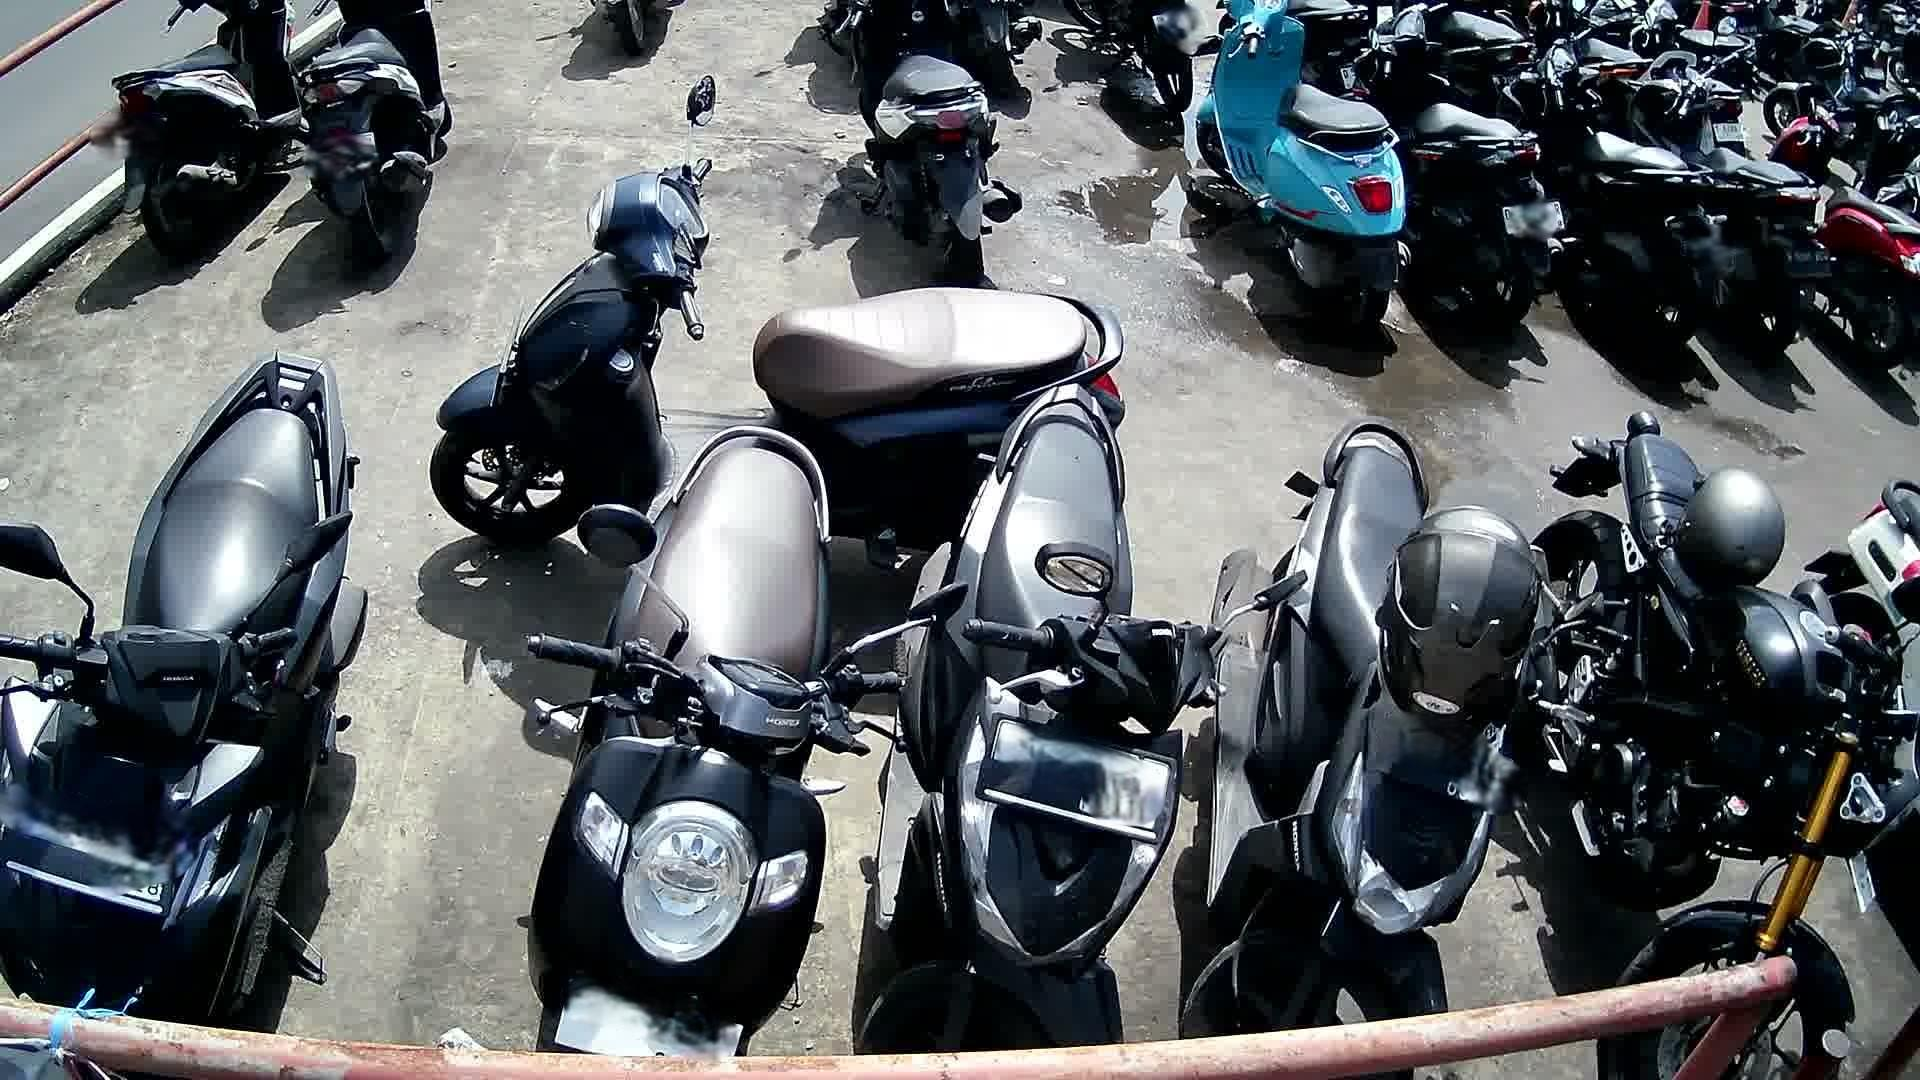motorcycle: (428, 77, 1125, 553), (868, 380, 1310, 1038), (524, 424, 963, 1050), (1532, 408, 1920, 1080), (1, 344, 374, 1014), (1191, 422, 1603, 1012), (1347, 0, 1577, 327), (1191, 0, 1418, 331), (1491, 29, 1720, 346), (1629, 49, 1838, 362), (833, 0, 1021, 279), (110, 0, 305, 259), (1785, 480, 1920, 822), (296, 0, 453, 268), (1771, 97, 1920, 374)
